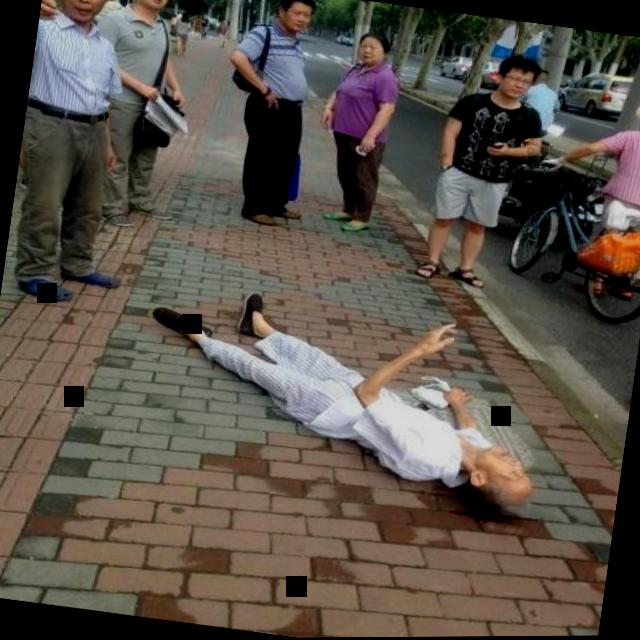Fall-Detected: (111, 259, 582, 536)
